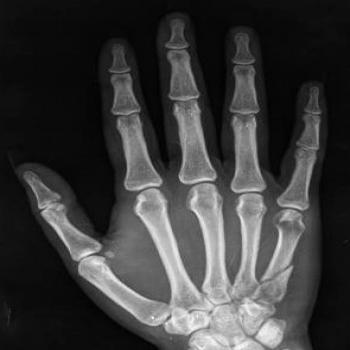Fracture: (258, 257, 299, 289)
